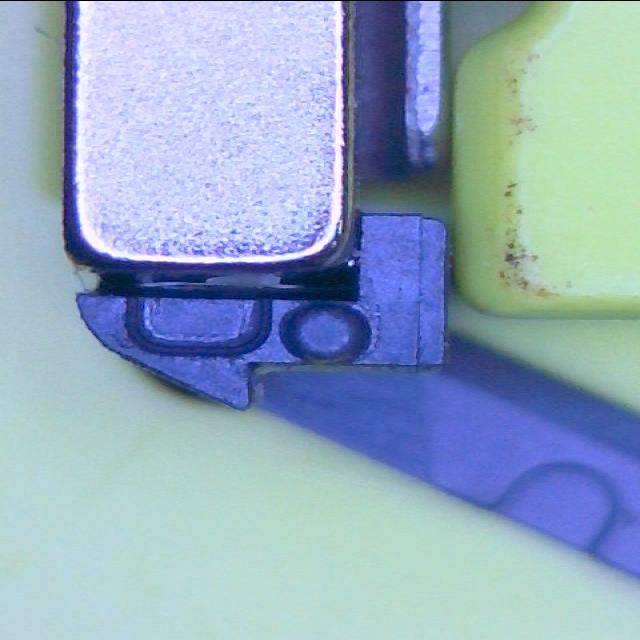lacking: (122, 290, 274, 360)
